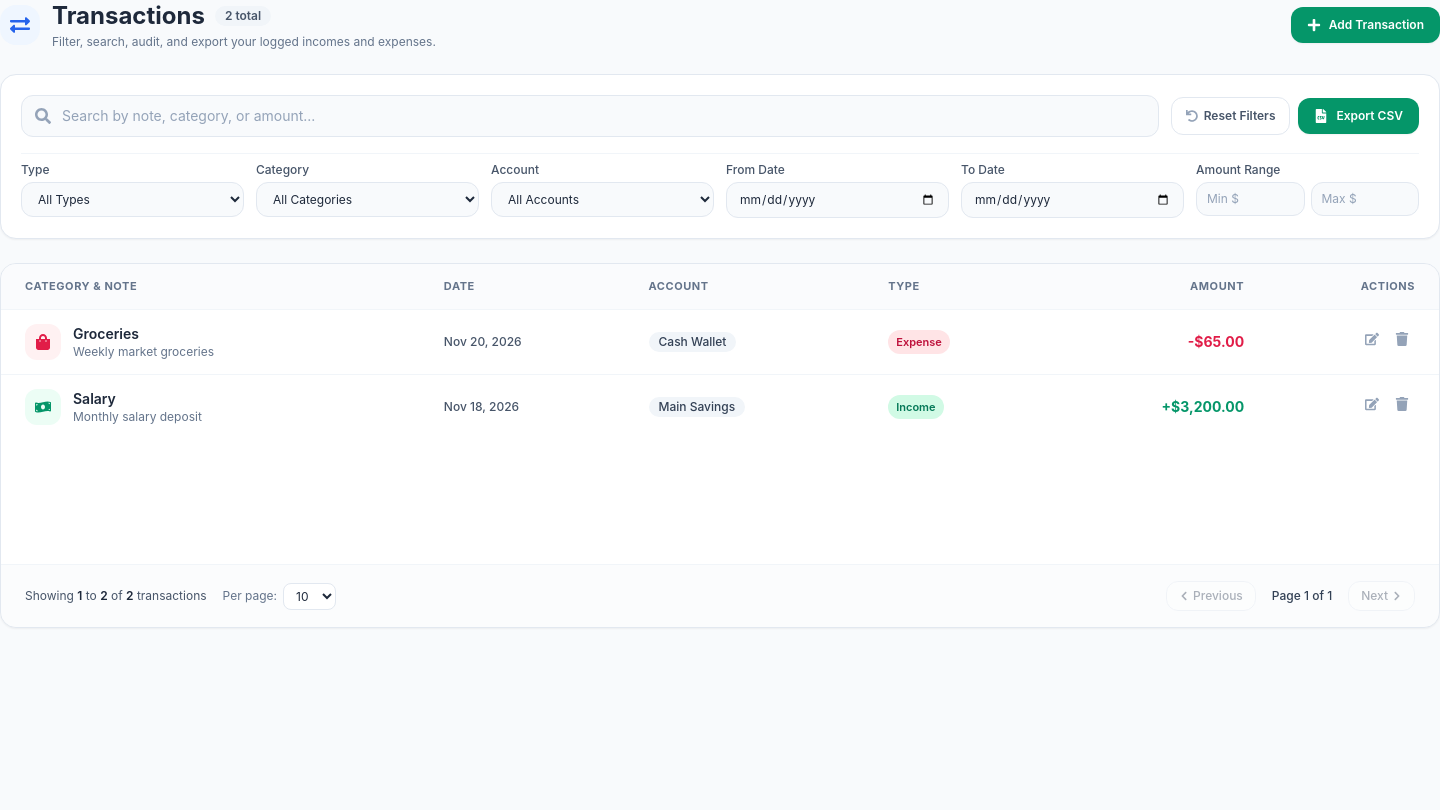
TransactionsPage Component › opens TransactionModal in Add mode when Add Transaction CTA is clicked
Click the button "Add Transaction". click: (1365, 25)
box: 1291,7 -> 1439,43
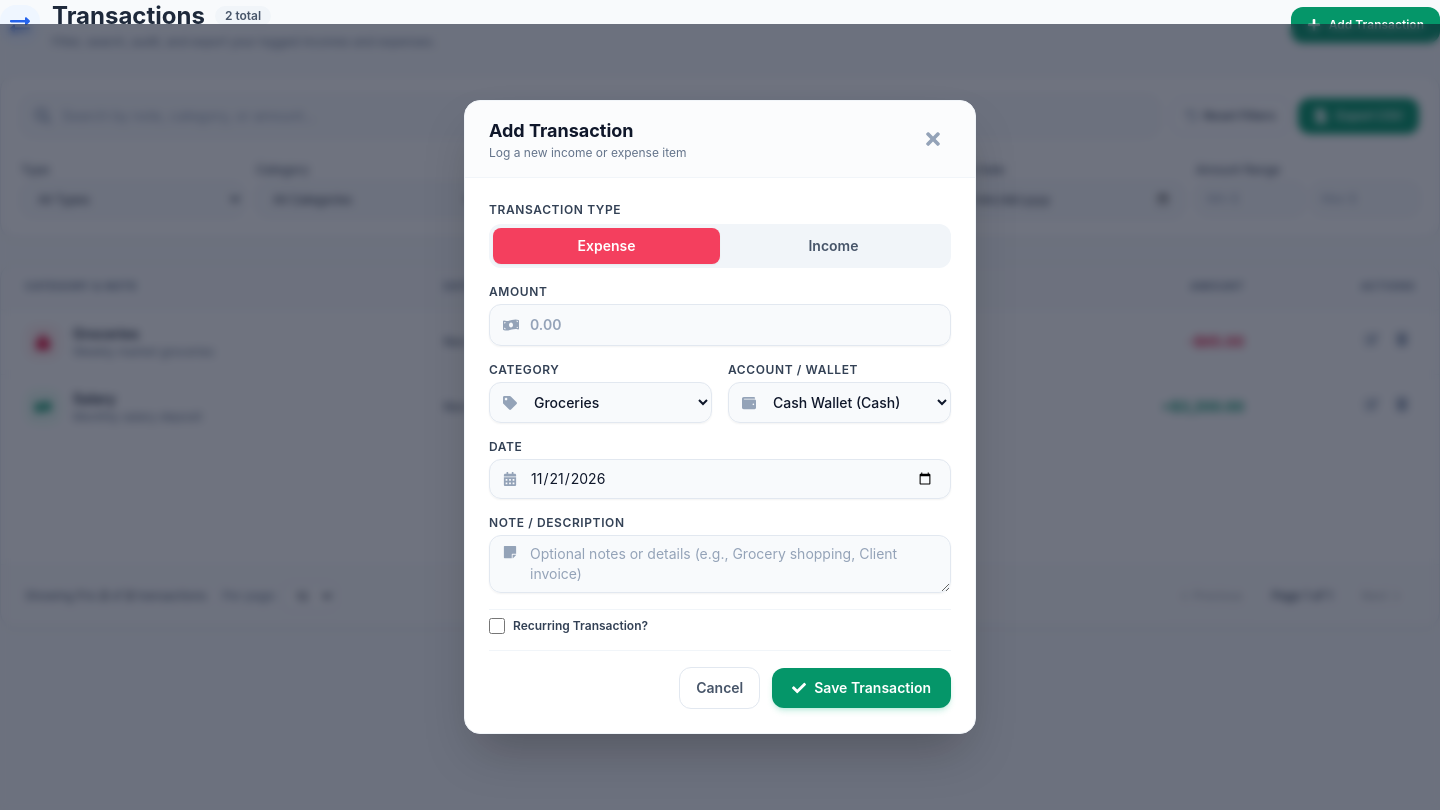
Result: the heading "Add Transaction" is shown at 489,120 -> 634,141
